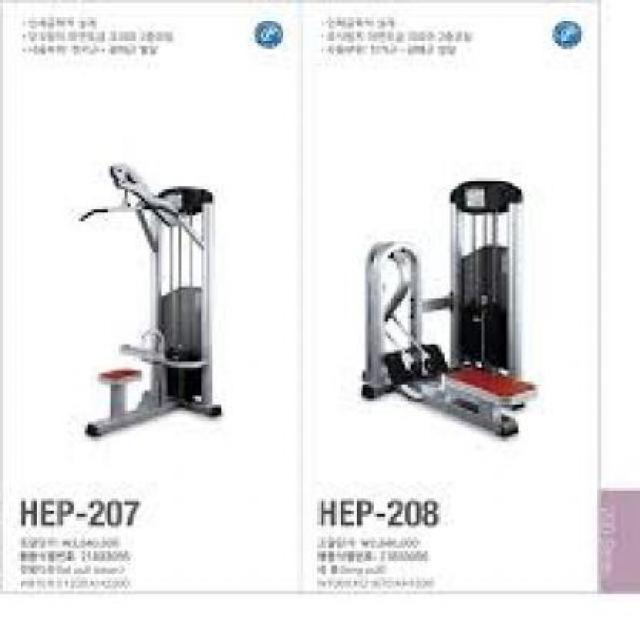Seated Cable Rows: (338, 157, 576, 446)
